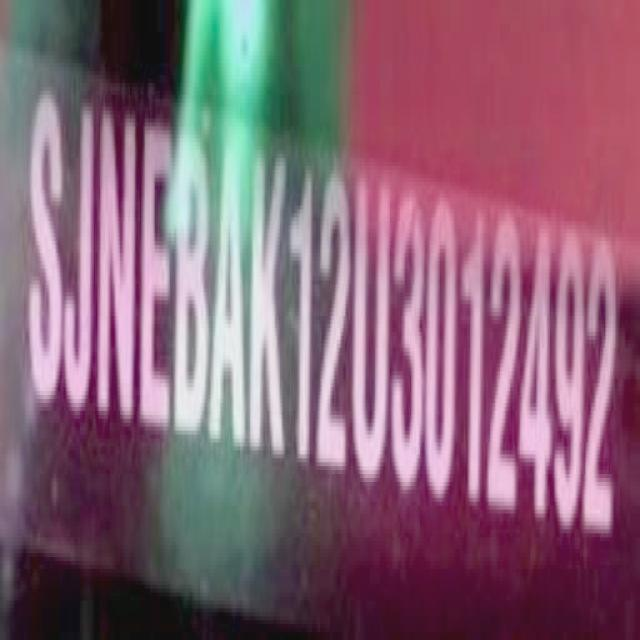0: (425, 187, 459, 510)
1: (286, 152, 316, 479), (461, 200, 488, 516)
2: (314, 162, 354, 486), (584, 227, 624, 542), (488, 210, 525, 530)
3: (391, 173, 429, 497)
4: (520, 209, 556, 533)
9: (554, 222, 586, 538)
A: (208, 135, 248, 458)
B: (174, 121, 214, 452)
E: (134, 112, 177, 445)
J: (63, 94, 96, 420)
K: (250, 148, 288, 470)
N: (94, 103, 142, 438)
S: (26, 74, 62, 403)
U: (352, 177, 391, 492)
